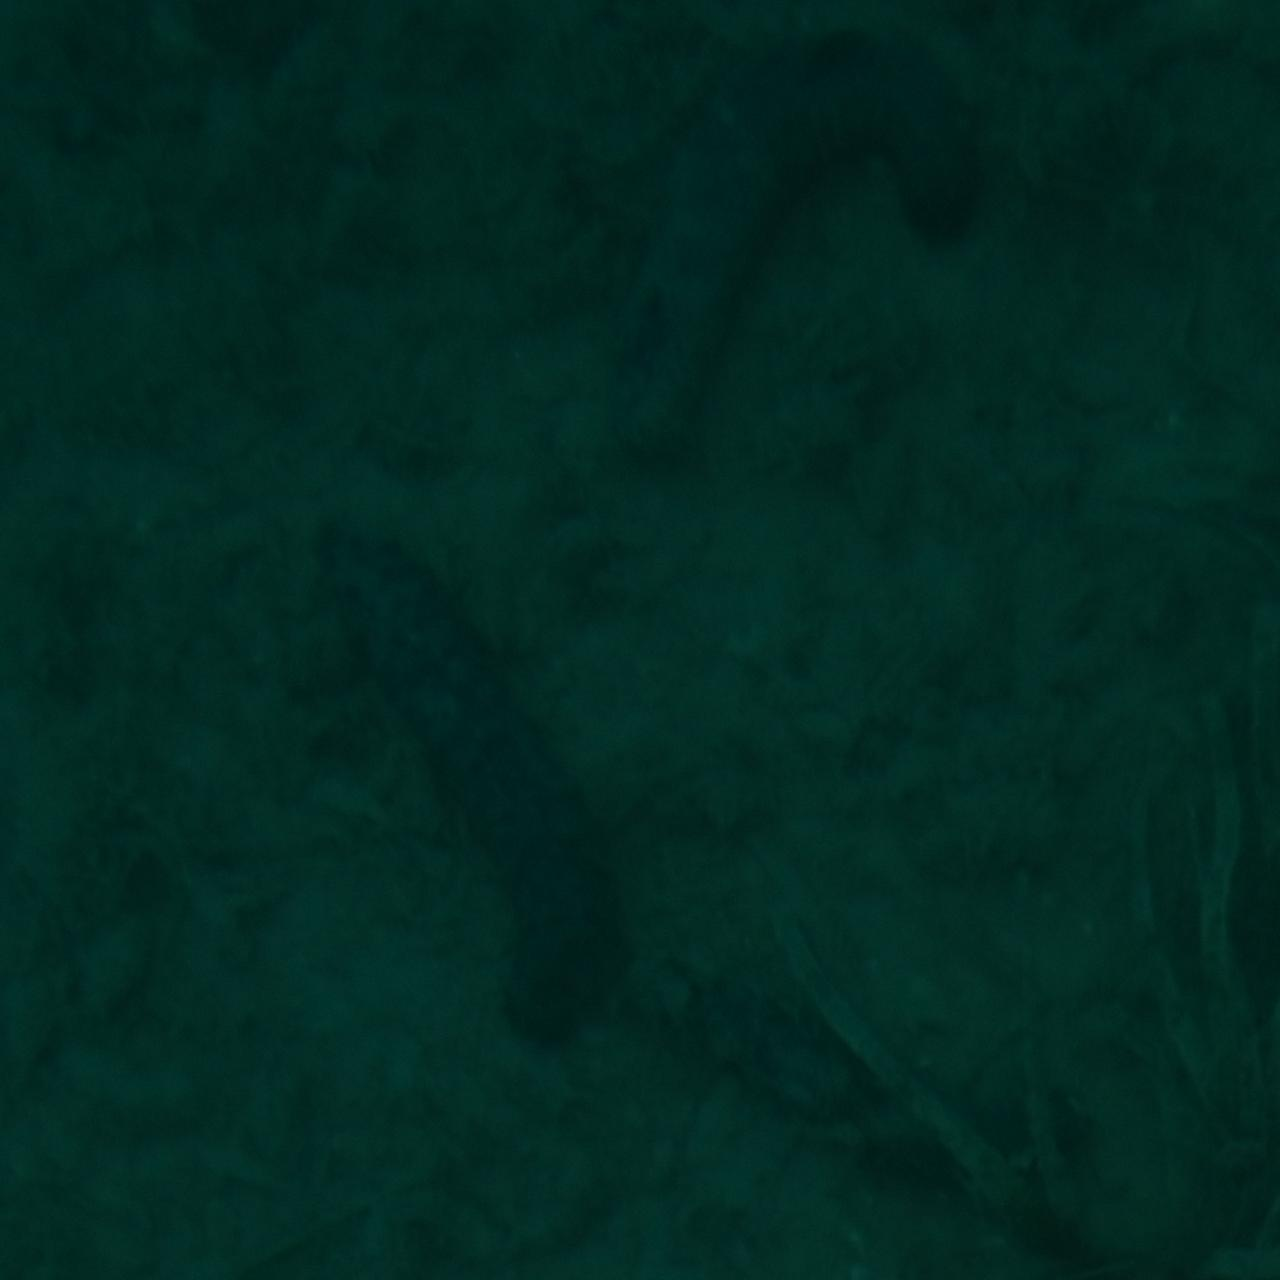Holothuria tubulosa: (305, 504, 649, 1065), (614, 14, 992, 470)
